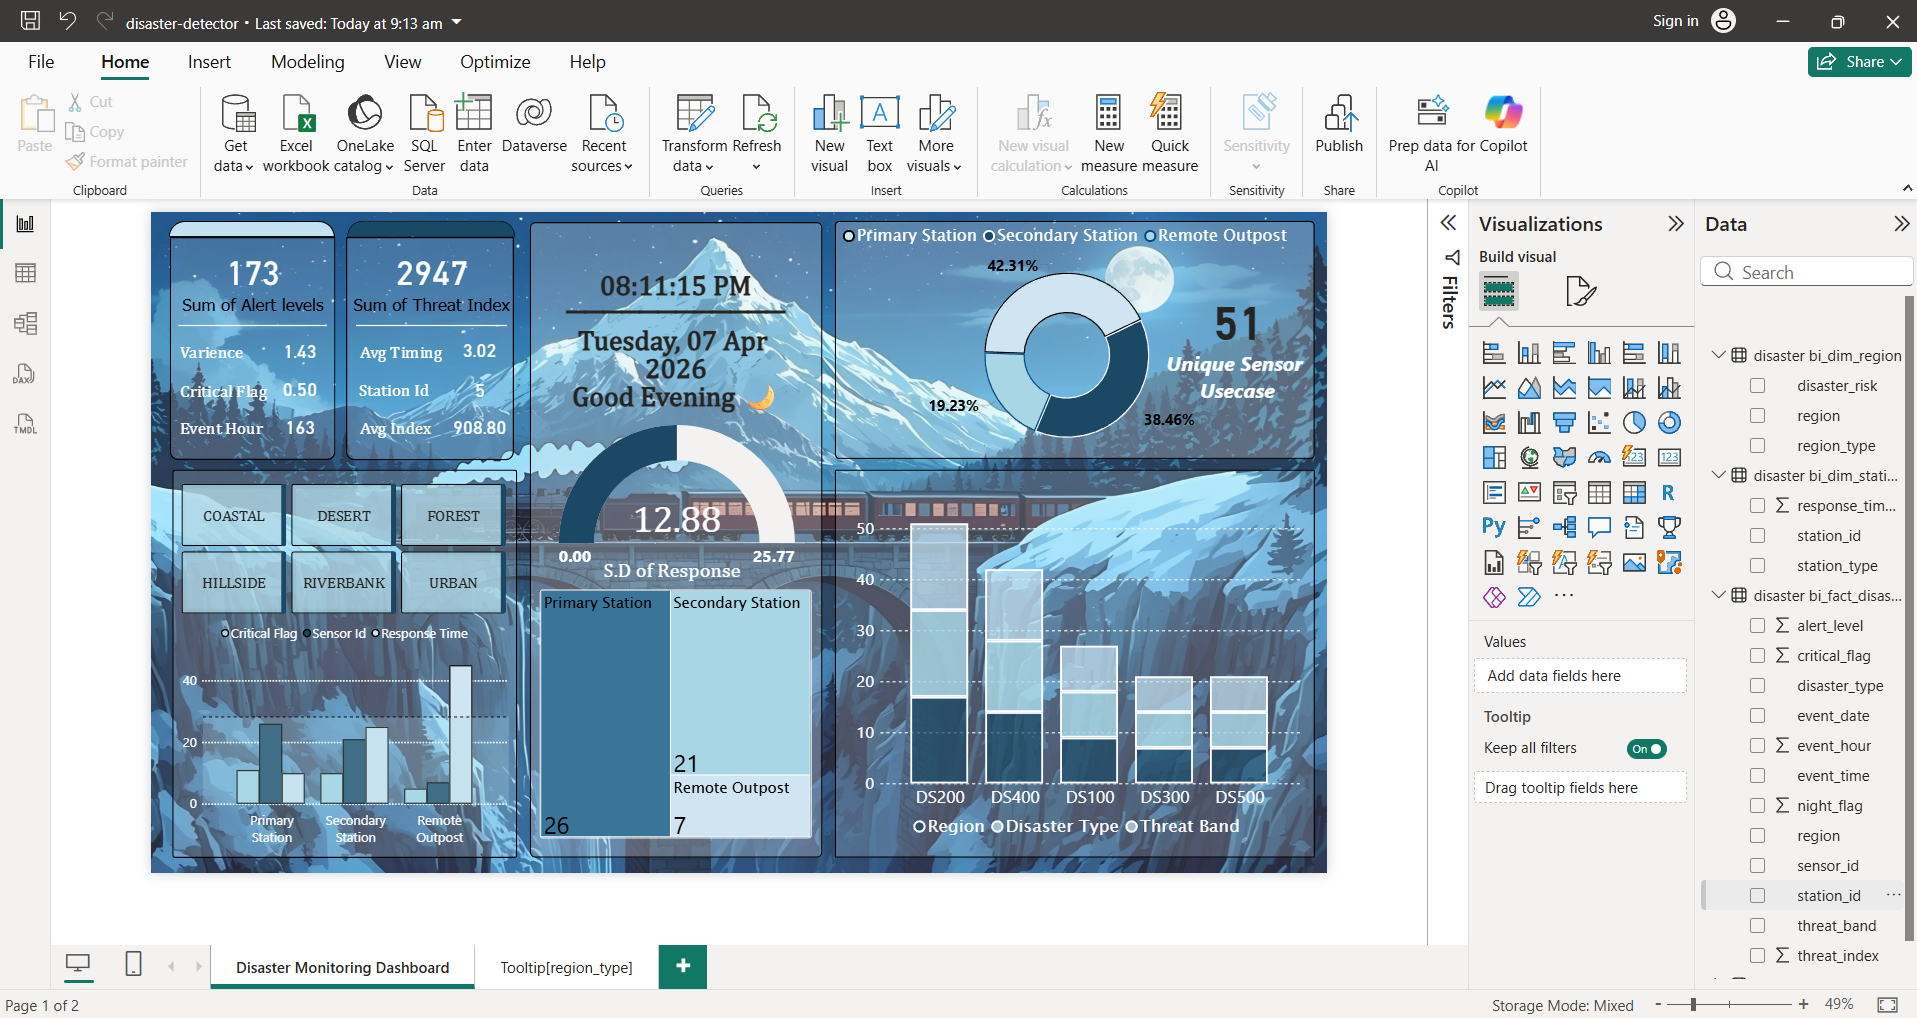

Layout of this report page (visuals, bound fields, positions):
{"tool":"powerbi","page":{"name":"Disaster Monitoring Dashboard","canvas":[1920,1080],"ordinal":0},"visuals":[{"type":"shape","box":[1116,420,784,634],"z":0},{"type":"shape","box":[34.4,420,563.3,634.4],"z":1000},{"type":"columnChart","fields":{"Category":["Sheet3.station_id"],"Y":["CountNonNull(Sheet3.region)","CountNonNull(Sheet3.disaster_type)","CountNonNull(Sheet3.threat_band)"]},"box":[1146,462,734,568],"z":2000},{"type":"shape","box":[1116.4,14.5,783.6,389.1],"z":3000},{"type":"donutChart","fields":{"Category":["Sheet2.station_type"],"Y":["Sum(Sheet3.critical_flag)"]},"box":[1108.7,13,771.7,400],"z":4000},{"type":"card","fields":{"Values":["Count(Sheet3.sensor_id)"]},"box":[1646,8,254,370],"z":5000},{"type":"lineClusteredColumnComboChart","fields":{"Category":["Sheet2.station_type"],"Y":["Sum(Sheet3.critical_flag)","CountNonNull(Sheet3.sensor_id)","Median(Sheet2.response_time_mins)"]},"box":[47.5,662.5,542.5,380],"z":6000},{"type":"shape","box":[29,14,272,27],"z":7000},{"type":"shape","box":[30,40,270.6,364.1],"z":8000},{"type":"shape","box":[319.4,40.3,274.2,364.5],"z":9000},{"type":"shape","box":[320,15,274,26],"z":10000},{"type":"card","fields":{"Values":["Sum(Sheet3.alert_level)"]},"box":[30,34,272,152],"z":11000},{"type":"shape","box":[45.6,171.1,242.2,27.8],"z":12000},{"type":"card","fields":{"Values":["Sum(Sheet3.alert_level)"]},"box":[175,197.5,136.2,55],"z":13000},{"type":"card","fields":{"Values":["Sum(Sheet3.critical_flag)"]},"box":[176.2,261.2,135.6,55],"z":14000},{"type":"card","fields":{"Values":["Sum(Sheet3.event_hour)"]},"box":[176.2,323.1,136.9,56.2],"z":15000},{"type":"shape","title":"Varience","box":[46.2,211.4,150,32.6],"z":16000},{"type":"shape","title":"Event Hour","box":[46,337,175,33],"z":17000},{"type":"shape","title":"Critical Flag","box":[46,275,150,33],"z":18000},{"type":"card","fields":{"Values":["Sum(Sheet3.threat_index)"]},"box":[322.2,34.4,272.2,151.1],"z":19000},{"type":"shape","box":[334.4,171.1,246.7,27.8],"z":20000},{"type":"card","fields":{"Values":["Avg(Sheet3.event_hour)"]},"box":[470,196.9,135,55.6],"z":21000},{"type":"card","fields":{"Values":["Count(Sheet3.station_id)"]},"box":[469.4,260.6,136.2,55.6],"z":22000},{"type":"card","fields":{"Values":["Sum(Sheet3.threat_index)"]},"box":[470,322.5,135,55.8],"z":23000},{"type":"shape","title":"Avg Index","box":[340,336.7,175,33.3],"z":24000},{"type":"shape","title":"Station Id","box":[338.1,274.4,150,33.1],"z":25000},{"type":"shape","title":"Avg Timing","box":[340,211.2,150,33.1],"z":26000},{"type":"shape","box":[618,16,478,1038],"z":27000},{"type":"treemap","fields":{"Group":["Sheet2.station_type"],"Values":["CountNonNull(Sheet3.event_time)"]},"box":[634,616,444,406],"z":28000},{"type":"gauge","title":"S.D. of Response Time","fields":{"Y":["CountNonNull(Sheet2.response_time_mins)"]},"box":[636,342,444,248],"z":29000},{"type":"shape","title":"S.D of Response","box":[738,564,276,52],"z":30000},{"type":"card","fields":{"Values":["Sheet1 (2).Current DateTime"]},"box":[650,54,412,308],"z":31000},{"type":"advancedSlicerVisual","fields":{"Values":["Sheet3.region"]},"box":[45.7,438.6,540,222.9],"z":32000}]}

Visuals, with their boxes on the page's 1920x1080 design canvas (x1, y1, x2, y2). These are canvas units, not pixel positions in the 1917x1018 screenshot, which may show the page scaled, cropped or inside an application window:
shape: <bbox>1116, 420, 1900, 1054</bbox>
shape: <bbox>34, 420, 598, 1054</bbox>
columnChart - Sheet3.station_id x CountNonNull(Sheet3.region): <bbox>1146, 462, 1880, 1030</bbox>
shape: <bbox>1116, 14, 1900, 404</bbox>
donutChart - Sheet2.station_type x Sum(Sheet3.critical_flag): <bbox>1109, 13, 1880, 413</bbox>
card - Count(Sheet3.sensor_id): <bbox>1646, 8, 1900, 378</bbox>
lineClusteredColumnComboChart - Sheet2.station_type x Sum(Sheet3.critical_flag): <bbox>48, 662, 590, 1042</bbox>
shape: <bbox>29, 14, 301, 41</bbox>
shape: <bbox>30, 40, 301, 404</bbox>
shape: <bbox>319, 40, 594, 405</bbox>
shape: <bbox>320, 15, 594, 41</bbox>
card - Sum(Sheet3.alert_level): <bbox>30, 34, 302, 186</bbox>
shape: <bbox>46, 171, 288, 199</bbox>
card - Sum(Sheet3.alert_level): <bbox>175, 198, 311, 252</bbox>
card - Sum(Sheet3.critical_flag): <bbox>176, 261, 312, 316</bbox>
card - Sum(Sheet3.event_hour): <bbox>176, 323, 313, 379</bbox>
"Varience" shape: <bbox>46, 211, 196, 244</bbox>
"Event Hour" shape: <bbox>46, 337, 221, 370</bbox>
"Critical Flag" shape: <bbox>46, 275, 196, 308</bbox>
card - Sum(Sheet3.threat_index): <bbox>322, 34, 594, 186</bbox>
shape: <bbox>334, 171, 581, 199</bbox>
card - Avg(Sheet3.event_hour): <bbox>470, 197, 605, 252</bbox>
card - Count(Sheet3.station_id): <bbox>469, 261, 606, 316</bbox>
card - Sum(Sheet3.threat_index): <bbox>470, 322, 605, 378</bbox>
"Avg Index" shape: <bbox>340, 337, 515, 370</bbox>
"Station Id" shape: <bbox>338, 274, 488, 308</bbox>
"Avg Timing" shape: <bbox>340, 211, 490, 244</bbox>
shape: <bbox>618, 16, 1096, 1054</bbox>
treemap - Sheet2.station_type x CountNonNull(Sheet3.event_time): <bbox>634, 616, 1078, 1022</bbox>
"S.D. of Response Time" gauge: <bbox>636, 342, 1080, 590</bbox>
"S.D of Response" shape: <bbox>738, 564, 1014, 616</bbox>
card - Sheet1 (2).Current DateTime: <bbox>650, 54, 1062, 362</bbox>
advancedSlicerVisual - Sheet3.region: <bbox>46, 439, 586, 662</bbox>
